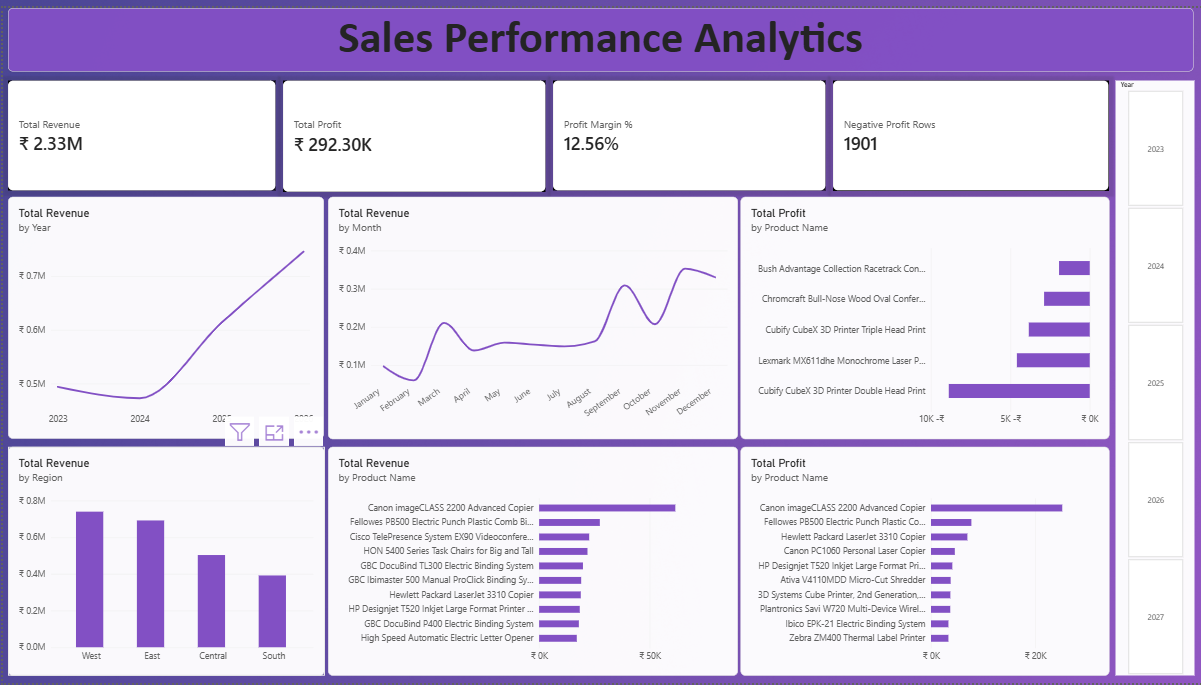

This screenshot's page, from the dashboard's own definition file:
{"tool":"powerbi","page":{"name":"Final Page","canvas":[1920,1080],"ordinal":1},"visuals":[{"type":"cardVisual","fields":{"Data":["Orders.Total Revenue"]},"box":[8,116,428,176],"z":0},{"type":"cardVisual","fields":{"Data":["Orders.Total Profit"]},"box":[448.3,115,420,178.3],"z":1000},{"type":"cardVisual","fields":{"Data":["Orders.Profit Margin %"]},"box":[880,115,436,176],"z":2000},{"type":"lineChart","fields":{"Category":["Calendar.Date.Variation.Date Hierarchy.Year"],"Y":["Orders.Total Revenue"]},"box":[8,302,505.9,387.3],"z":3000},{"type":"slicer","fields":{"Values":["Calendar.Date.Variation.Date Hierarchy.Year"]},"box":[1780,116.7,126.7,951.7],"z":5000},{"type":"cardVisual","fields":{"Data":["Orders.Negative Profit Orders"]},"box":[1328,116,441.7,176.7],"z":6000},{"type":"clusteredBarChart","fields":{"Category":["Orders.Product Name"],"Y":["Orders.Total Profit"]},"box":[1180,302,590,388],"z":7000},{"type":"columnChart","fields":{"Category":["Orders.Region"],"Y":["Orders.Total Revenue"]},"box":[8,702,506,366],"z":8000},{"type":"barChart","fields":{"Category":["Orders.Product Name"],"Y":["Orders.Total Revenue"]},"box":[520,702,656,366],"z":9000},{"type":"barChart","fields":{"Category":["Orders.Product Name"],"Y":["Orders.Total Profit"]},"box":[1180,702,590,366],"z":10000},{"type":"lineChart","fields":{"Category":["Calendar.Date.Variation.Date Hierarchy.Month"],"Y":["Orders.Total Revenue"]},"box":[520,302,656,388],"z":10001},{"type":"textbox","box":[8.3,0,1896.7,101.7],"z":10003}]}

Visuals, with their boxes in screenshot pixels (x1, y1, x2, y2), scaled from the page's 1920x1080 canvas onto the 1201x685 screenshot:
cardVisual - Orders.Total Revenue: (x1=5, y1=74, x2=273, y2=185)
cardVisual - Orders.Total Profit: (x1=280, y1=73, x2=543, y2=186)
cardVisual - Orders.Profit Margin %: (x1=550, y1=73, x2=823, y2=185)
lineChart - Calendar.Date.Variation.Date Hierarchy.Year x Orders.Total Revenue: (x1=5, y1=192, x2=321, y2=437)
slicer - Calendar.Date.Variation.Date Hierarchy.Year: (x1=1113, y1=74, x2=1193, y2=678)
cardVisual - Orders.Negative Profit Orders: (x1=831, y1=74, x2=1107, y2=186)
clusteredBarChart - Orders.Product Name x Orders.Total Profit: (x1=738, y1=192, x2=1107, y2=438)
columnChart - Orders.Region x Orders.Total Revenue: (x1=5, y1=445, x2=322, y2=677)
barChart - Orders.Product Name x Orders.Total Revenue: (x1=325, y1=445, x2=736, y2=677)
barChart - Orders.Product Name x Orders.Total Profit: (x1=738, y1=445, x2=1107, y2=677)
lineChart - Calendar.Date.Variation.Date Hierarchy.Month x Orders.Total Revenue: (x1=325, y1=192, x2=736, y2=438)
textbox: (x1=5, y1=0, x2=1192, y2=65)
